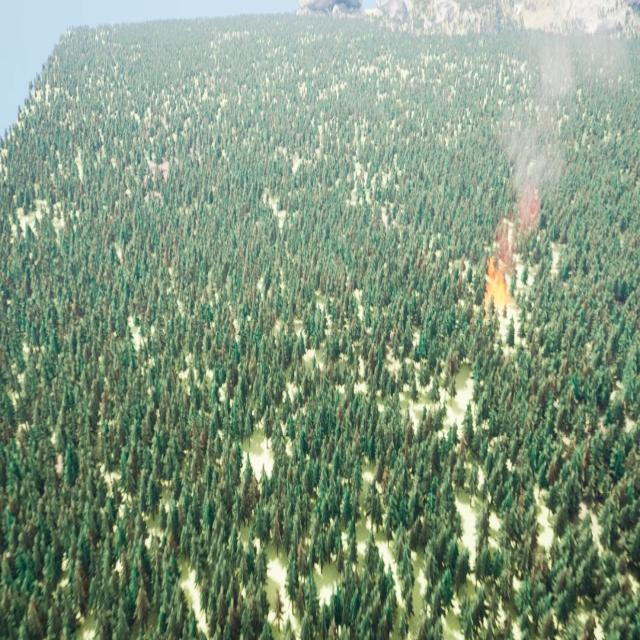fire: (484, 261, 512, 308)
smoke: (496, 24, 624, 260)
